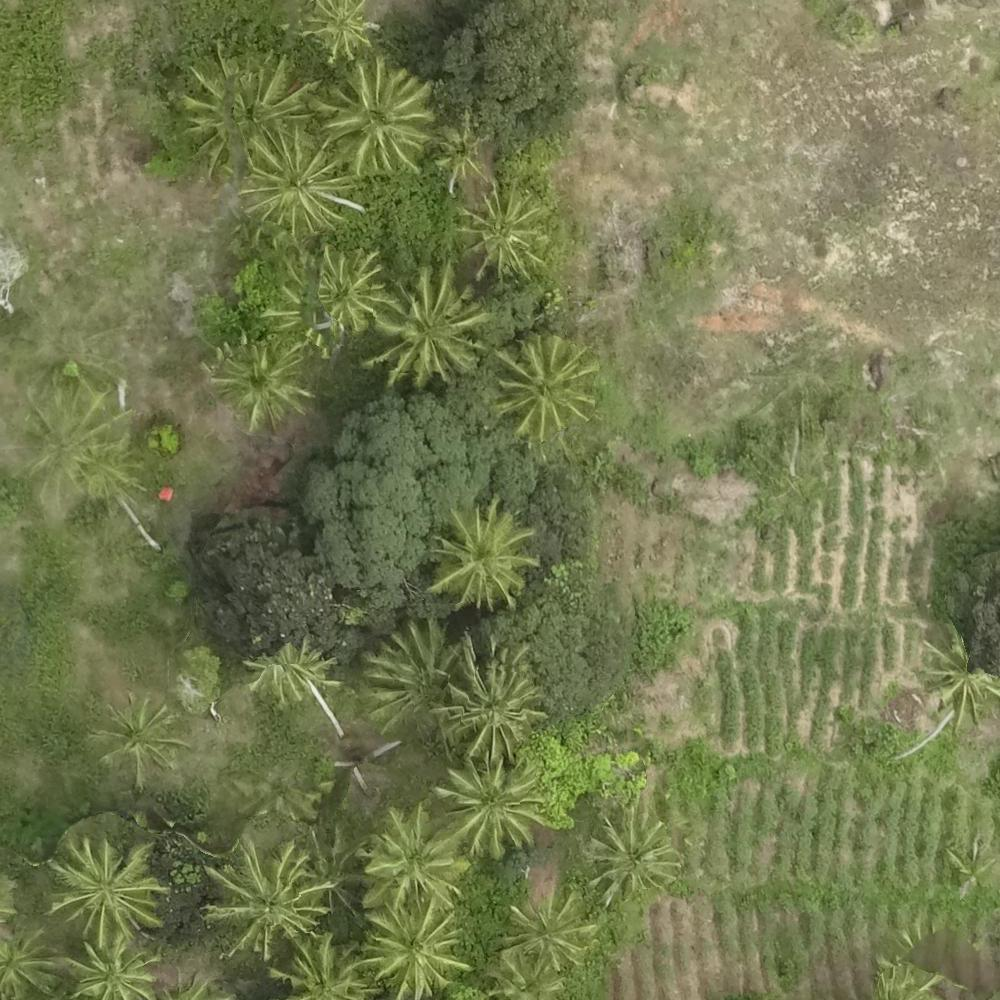Palm: (187, 47, 317, 179), (200, 834, 327, 951), (47, 838, 164, 948), (319, 61, 435, 166), (361, 808, 471, 912), (371, 272, 479, 375), (244, 130, 351, 230), (440, 646, 540, 752), (364, 622, 462, 727), (494, 336, 593, 438), (430, 505, 531, 604), (444, 760, 544, 857), (364, 907, 467, 997), (582, 809, 678, 900), (460, 186, 549, 274), (216, 341, 307, 426), (93, 695, 180, 777), (505, 893, 588, 973), (69, 942, 157, 1000), (435, 116, 498, 188), (250, 640, 325, 700), (307, 1, 380, 61)
